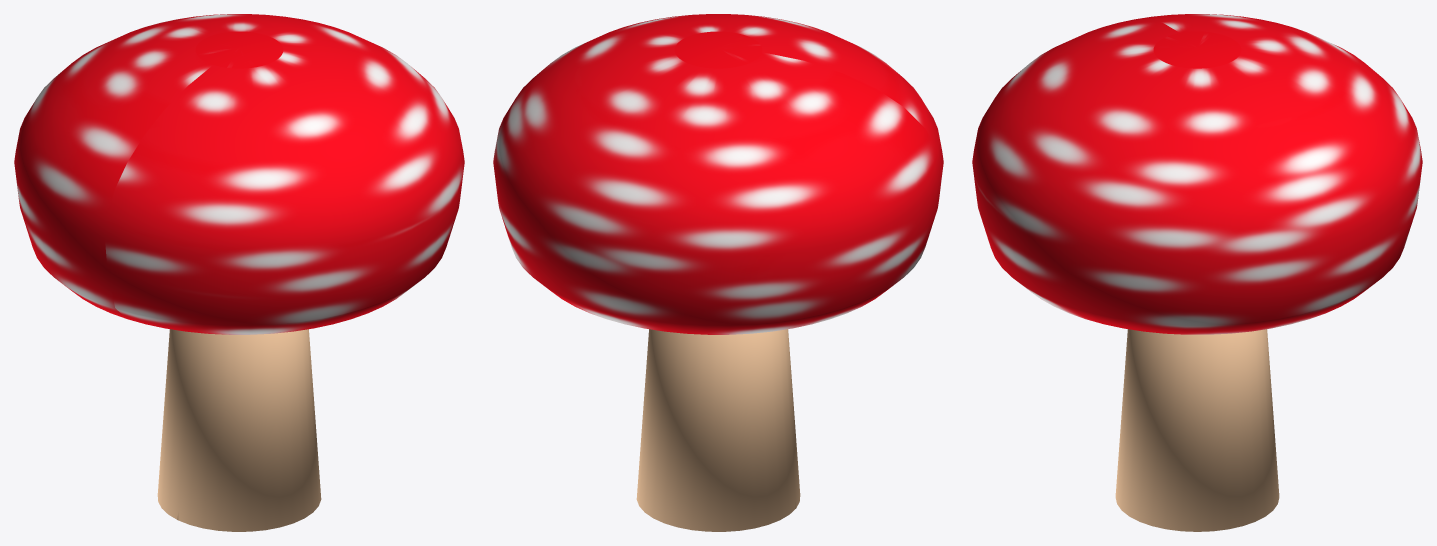
The model's file is HighJumpKinoko.obj.
3 renders of one model, left to right at view 1: azimuth 30°, elevation 25°; view 2: azimuth 150°, elevation 25°; view 3: azimuth 270°, elevation 25°, orthographic.
Visible parts, largest first — view 1: 球, 円柱; view 2: 球, 円柱; view 3: 球, 円柱.
Part boxes in pixels (<box>): 球: <box>14,14,464,334</box>; 円柱: <box>157,329,321,531</box>; 球: <box>493,14,943,334</box>; 円柱: <box>636,329,800,531</box>; 球: <box>972,14,1422,334</box>; 円柱: <box>1115,329,1279,531</box>.
Bounding box in the file's own units: 11.7 × 12.9 × 11.72.
Materials: 2 (2 with a texture image).
